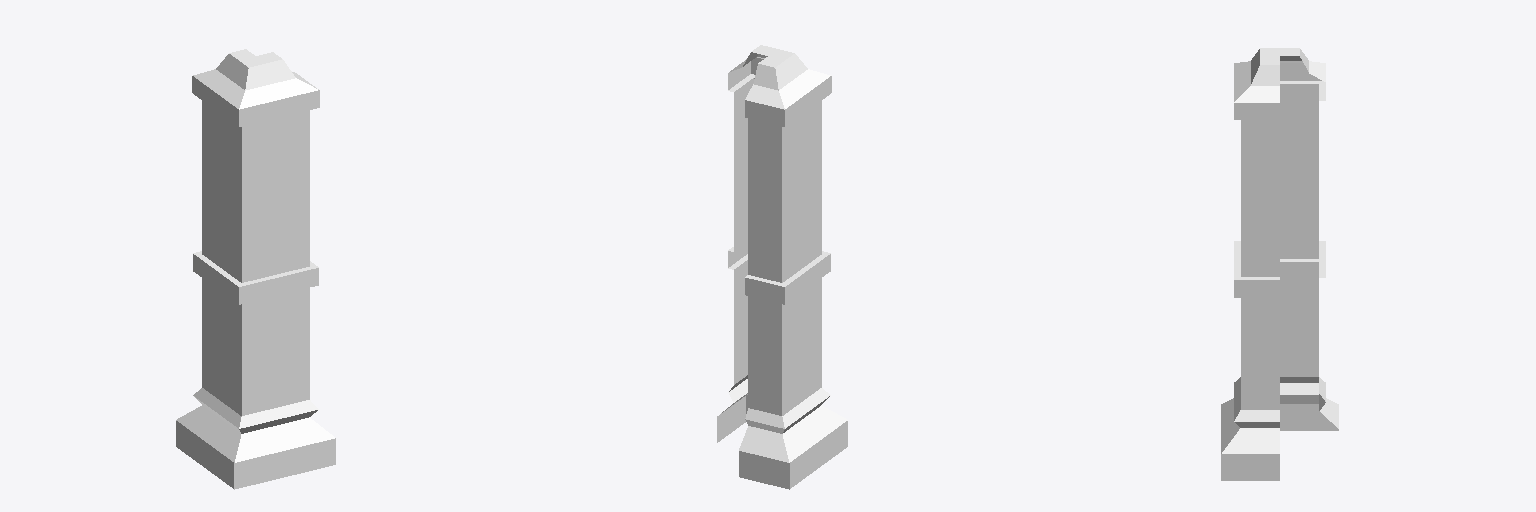
The model's file is Corner_Pilar.obj.
The picture shows the model from 3 angles: view 1: azimuth 30°, elevation 25°; view 2: azimuth 150°, elevation 25°; view 3: azimuth 270°, elevation 25°; orthographic projection.
Visible parts, largest first — view 1: Pillar3_Plane.013; view 2: Pillar3_Plane.013; view 3: Pillar3_Plane.013.
Part boxes in pixels (x1,y1,x2,y2): Pillar3_Plane.013: (176, 49, 335, 489); Pillar3_Plane.013: (717, 45, 847, 489); Pillar3_Plane.013: (1221, 48, 1338, 480).
Bounding box in the file's own units: 1.2 × 4.5 × 1.2.